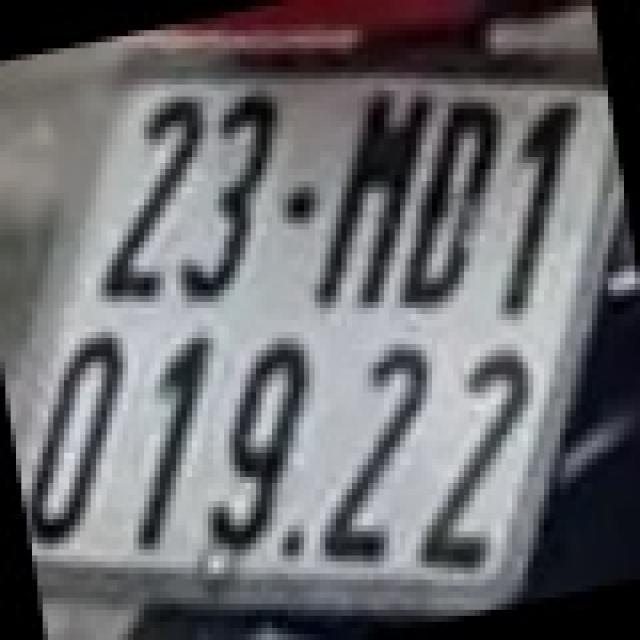0: (27, 332, 128, 550)
1: (502, 103, 582, 314), (133, 332, 208, 550)
2: (421, 344, 528, 568), (325, 344, 427, 562), (101, 96, 198, 302)
3: (181, 97, 272, 296)
9: (214, 338, 304, 550)
D: (421, 94, 496, 312)
M: (319, 72, 422, 308)
